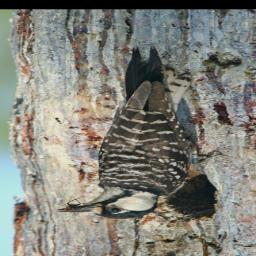Woodpecker: (55, 42, 227, 219)
